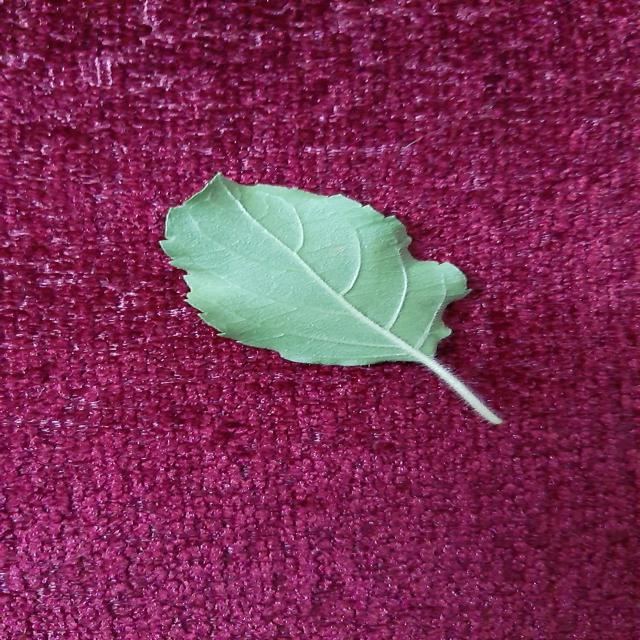tulsi: (160, 175, 501, 424)
